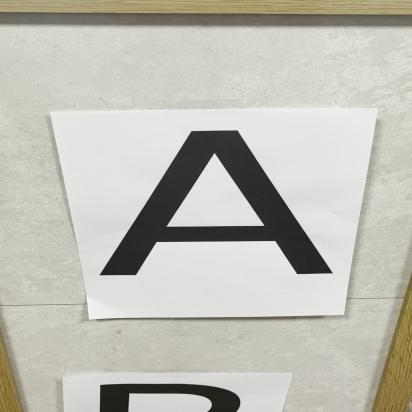seat: (97, 115, 340, 295)
